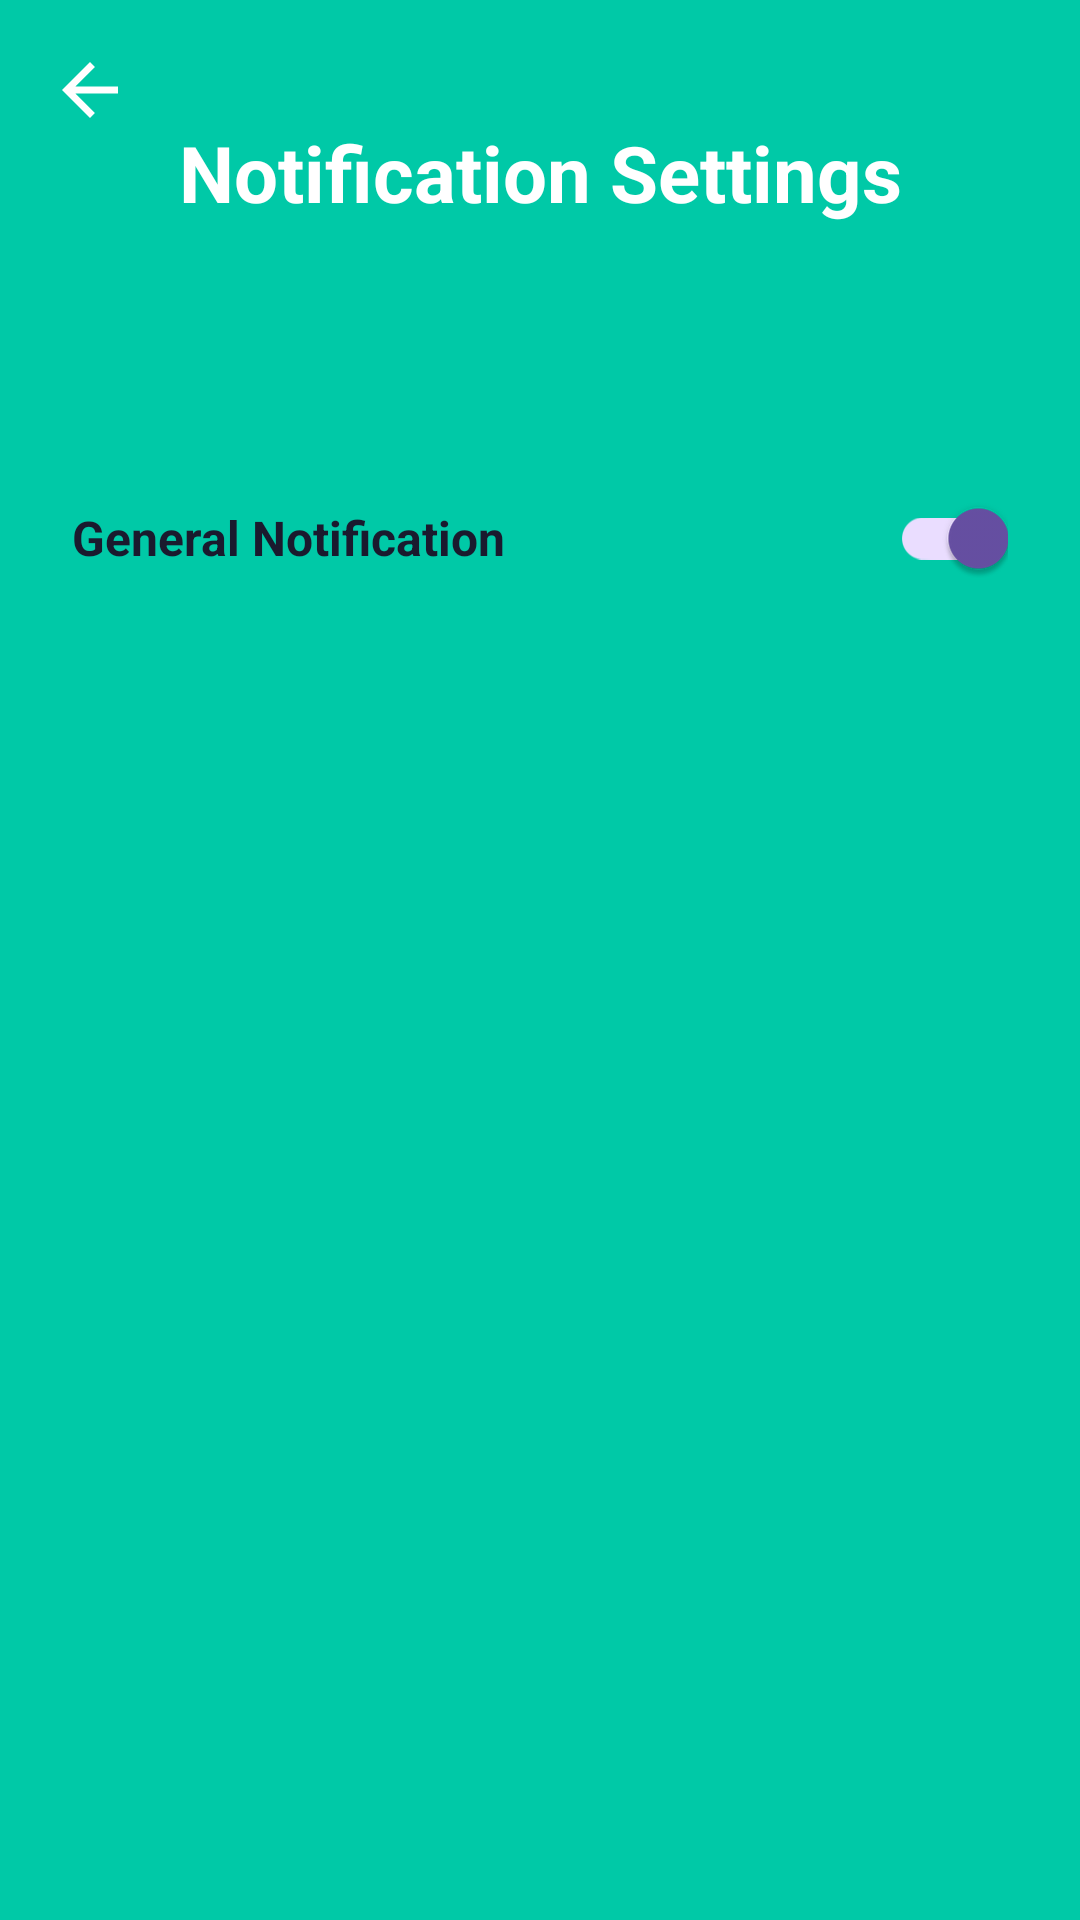

Icon bounding boxes for this 1080px×1920px phone screenshot, format (x1, y1, x2, y2):
Back: (62, 62, 118, 118)
